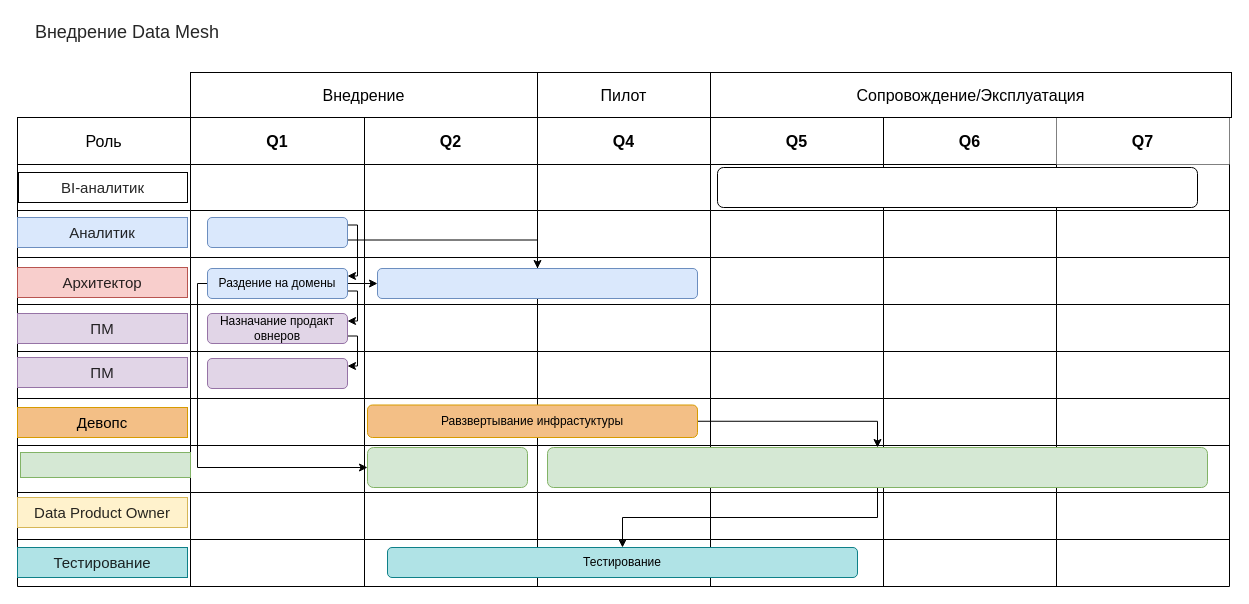
This 1249x604 diagram has some shape labels left out. Here are the shapes that lost their labels. From the top down, the box of each, then its label:
(716, 166, 1198, 208): Создание отчетов и разных предатвления данных
(206, 216, 348, 248): Анализ данных
(376, 268, 698, 298): Создание регламентов
(206, 358, 348, 388): Разделение на команды
(20, 452, 190, 478): Data Engineer
(366, 446, 528, 488): Разработка стандартов и политик
(546, 446, 1208, 488): Внедрение инструментов управления данными
